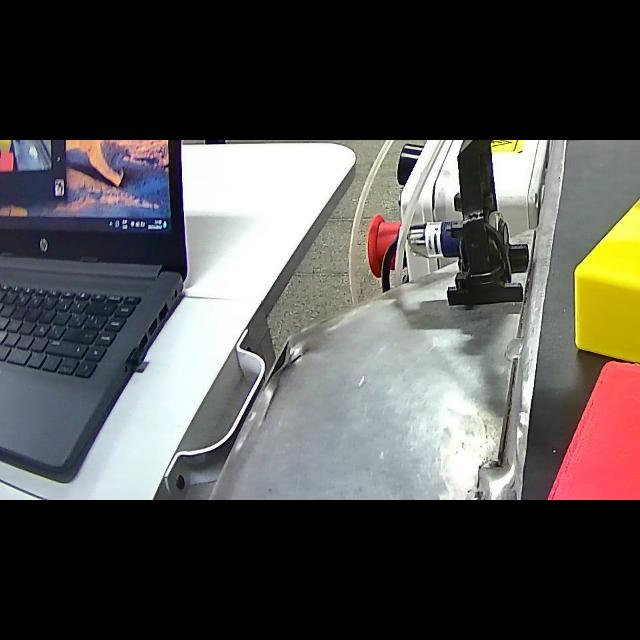redBox: (530, 350, 640, 500)
yellowBox: (566, 186, 640, 380)
